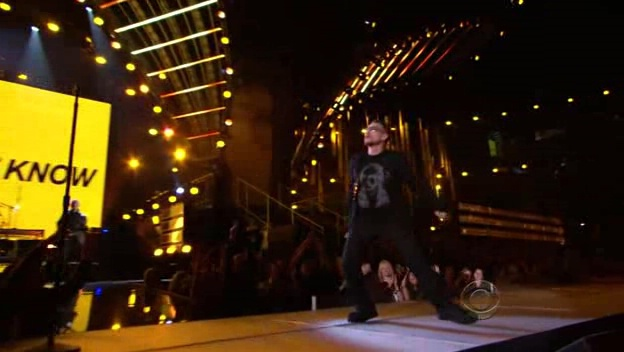person: (344, 121, 412, 237), (341, 121, 409, 237), (347, 121, 415, 237), (344, 118, 412, 234), (344, 124, 412, 240)
target_negative: (335, 169, 616, 238), (163, 66, 494, 93), (186, 226, 515, 236), (603, 72, 618, 276), (511, 154, 535, 181), (270, 190, 272, 270)
